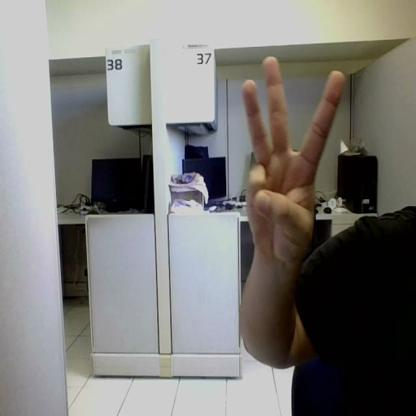W: (243, 57, 346, 258)
